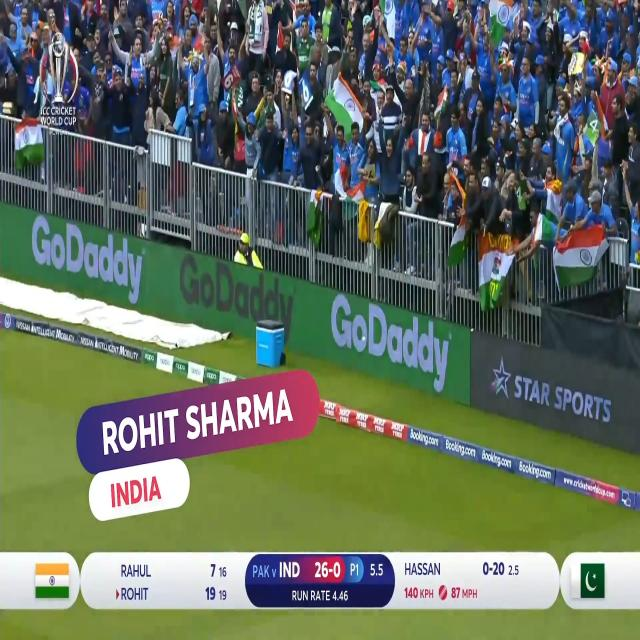ball: (360, 333, 370, 347)
